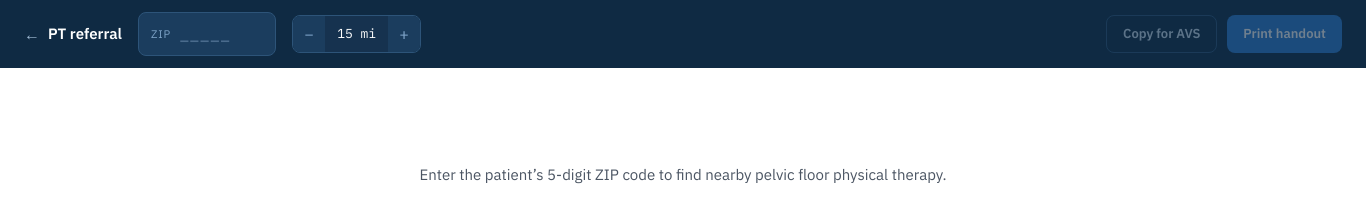
Test: SearchTherapists ZIP gating › shows a generic banner when the search fails outright (429, network)
The image size is (1366, 201).
Type "54235" into the field named "Patient ZIP code". click: {"x": 227, "y": 34}
box: 179,13 -> 275,54
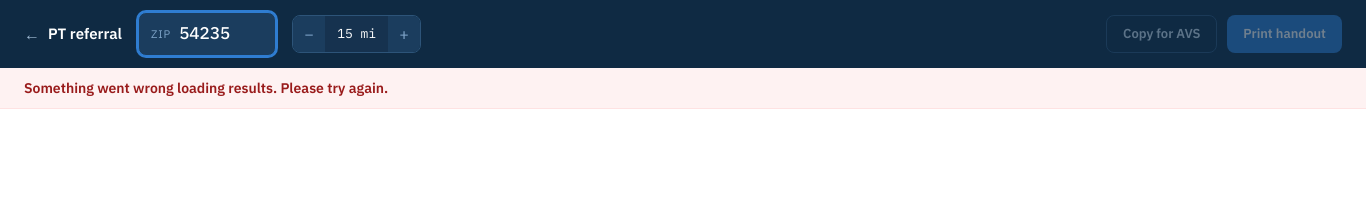
Now the text "Something went wrong loading results. Please try again." is shown, box 0,68 -> 1365,108
